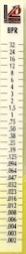number: (6, 160, 19, 167), (6, 167, 17, 175), (7, 153, 19, 160), (6, 230, 18, 237), (7, 181, 18, 188), (6, 195, 17, 202), (6, 202, 17, 209), (6, 209, 17, 216), (6, 216, 17, 223), (7, 223, 18, 230), (7, 237, 18, 244), (8, 139, 18, 146), (6, 175, 17, 181), (7, 189, 18, 195), (8, 119, 17, 126), (8, 125, 17, 132), (8, 147, 17, 154), (9, 41, 17, 48), (9, 104, 17, 111), (9, 132, 17, 139), (9, 63, 16, 70), (9, 49, 17, 55), (9, 56, 16, 62), (10, 77, 15, 84), (10, 97, 15, 104), (10, 70, 15, 76), (10, 84, 15, 90), (10, 90, 15, 96), (10, 112, 15, 118)
